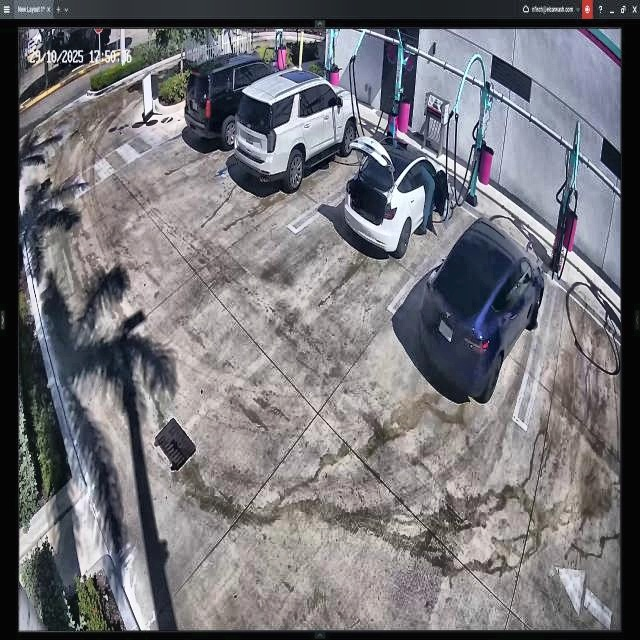Car: (424, 214, 544, 406), (235, 72, 357, 183), (344, 136, 447, 265), (185, 59, 288, 152)
